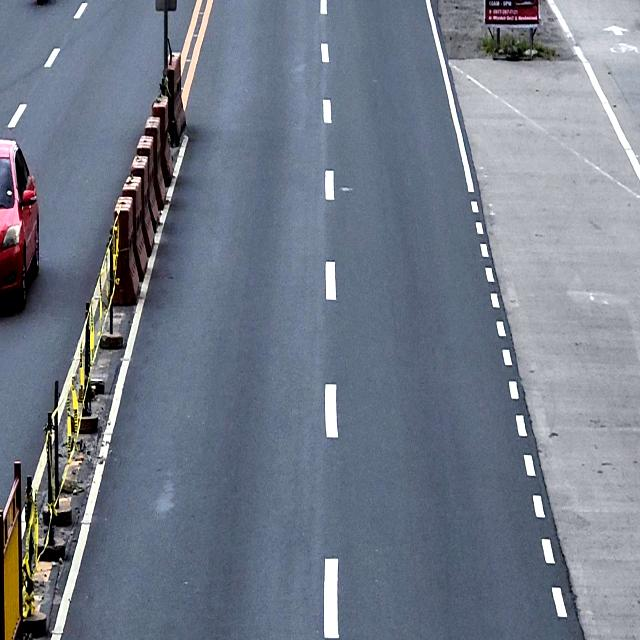Car: (0, 136, 43, 316)
